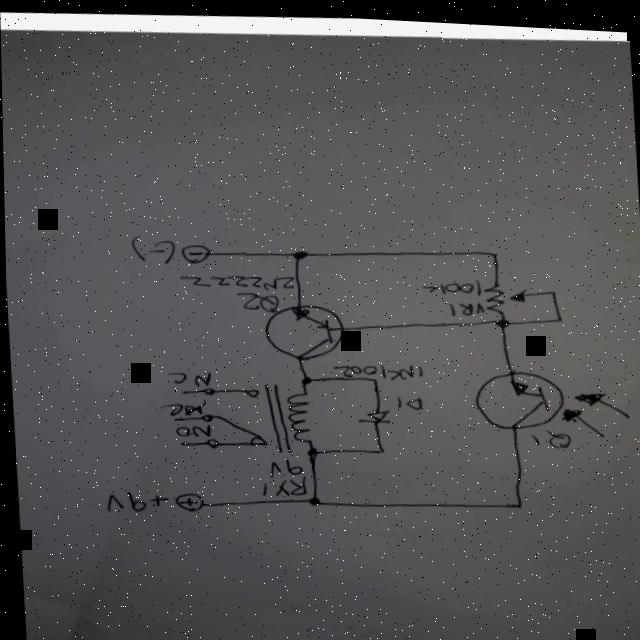diode: (349, 401, 392, 422)
junction: (548, 307, 565, 319), (541, 279, 558, 291), (302, 490, 318, 502), (300, 442, 316, 454), (371, 440, 387, 452), (365, 370, 381, 382), (295, 370, 311, 382), (493, 311, 509, 323), (486, 243, 502, 255), (291, 245, 307, 257), (506, 493, 522, 504)
resistor: (477, 272, 531, 313)
terminal: (176, 238, 213, 263), (170, 487, 203, 512), (170, 435, 186, 448), (163, 410, 179, 423), (173, 382, 189, 394)
text: (175, 264, 296, 313), (418, 271, 485, 313), (329, 353, 422, 380), (255, 452, 307, 496), (99, 483, 166, 517), (126, 228, 175, 266), (527, 420, 570, 446), (165, 365, 211, 388), (157, 395, 202, 416), (170, 419, 209, 438), (390, 388, 423, 407)
transistor: (468, 358, 634, 451), (260, 297, 349, 361)
